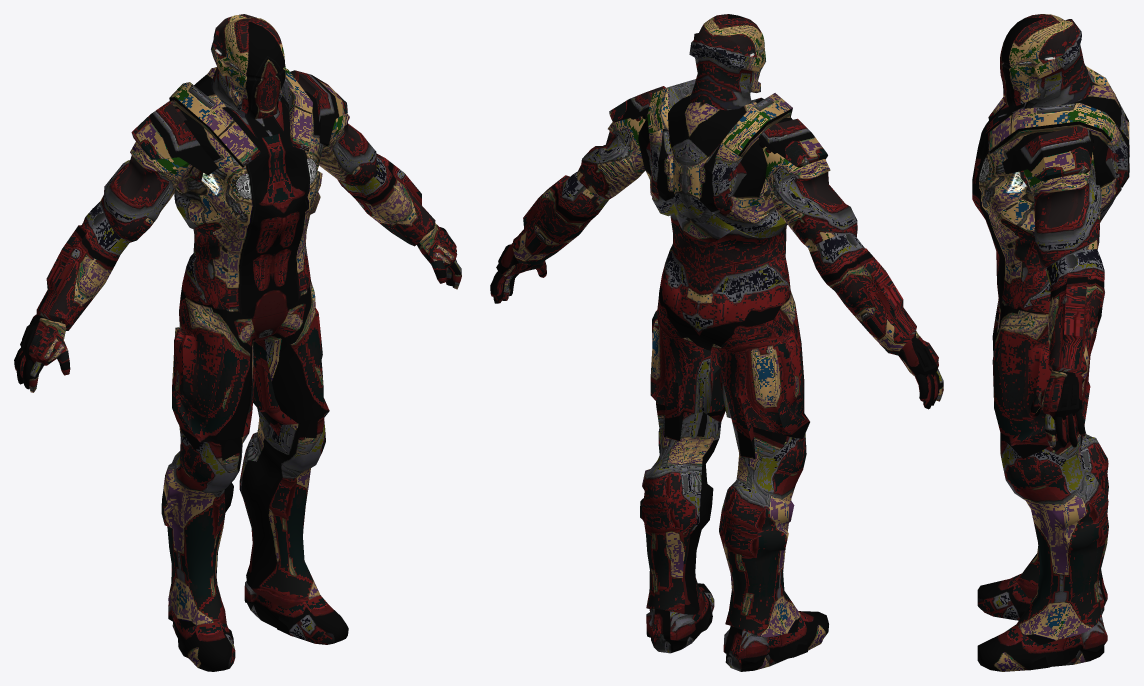
The model's file is armor_heartbreaker.glb.
3 views of the same model, side by side, from view 1: azimuth 30°, elevation 25°; view 2: azimuth 150°, elevation 25°; view 3: azimuth 270°, elevation 25° (orthographic).
Visible parts, largest first — view 1: armor_heartbreaker; view 2: armor_heartbreaker; view 3: armor_heartbreaker.
Part boxes in pixels (x1=…): armor_heartbreaker: x1=14, y1=14, x2=461, y2=671; armor_heartbreaker: x1=490, y1=14, x2=943, y2=671; armor_heartbreaker: x1=972, y1=14, x2=1129, y2=671.
Size of the model in its own units: 1.39 by 1.89 by 0.4359.
Materials: 1 (1 with a texture image).
